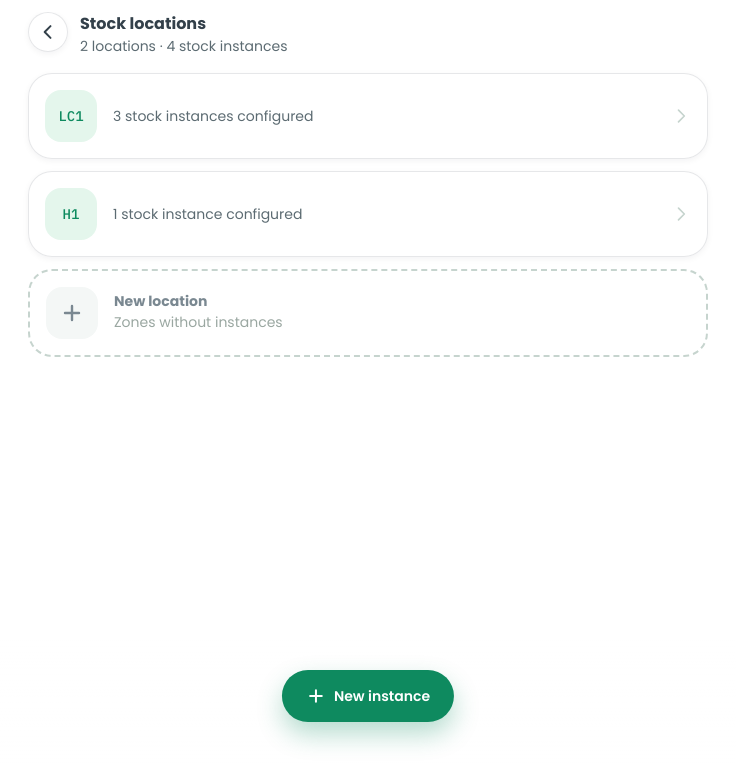
Test: StockWizardStep2View (screen 09) › C5(edit): the second card's wizard reads Save changes, patches that id and pops to the detail
Click the button with test id "stock-location-row" that starts with "LC1".
click(71, 116)  # box [28,73,708,159]
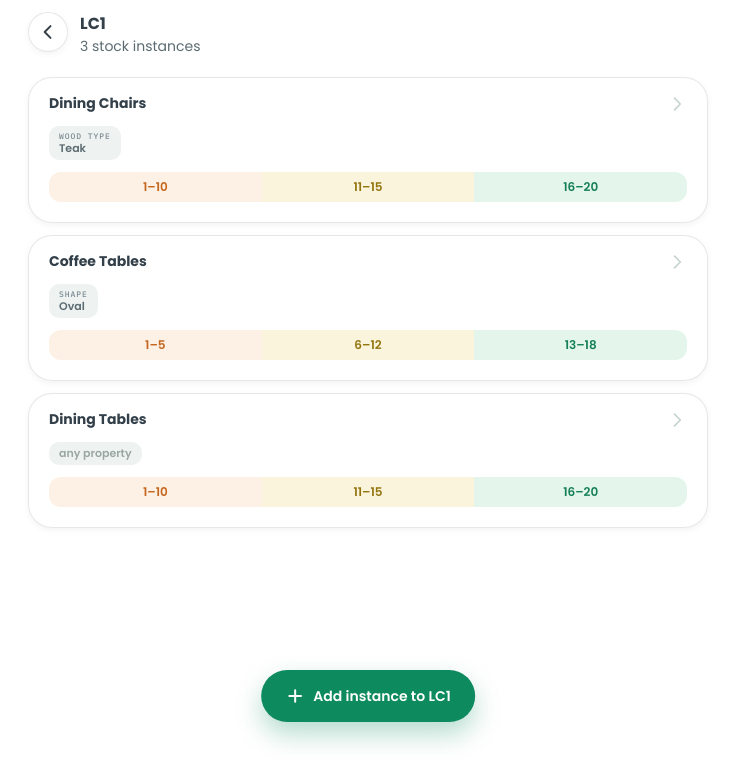
Click the button "Coffee Tables Shape Oval 1–5 6–12 13–18".
click(98, 261)  # box [29,236,707,380]
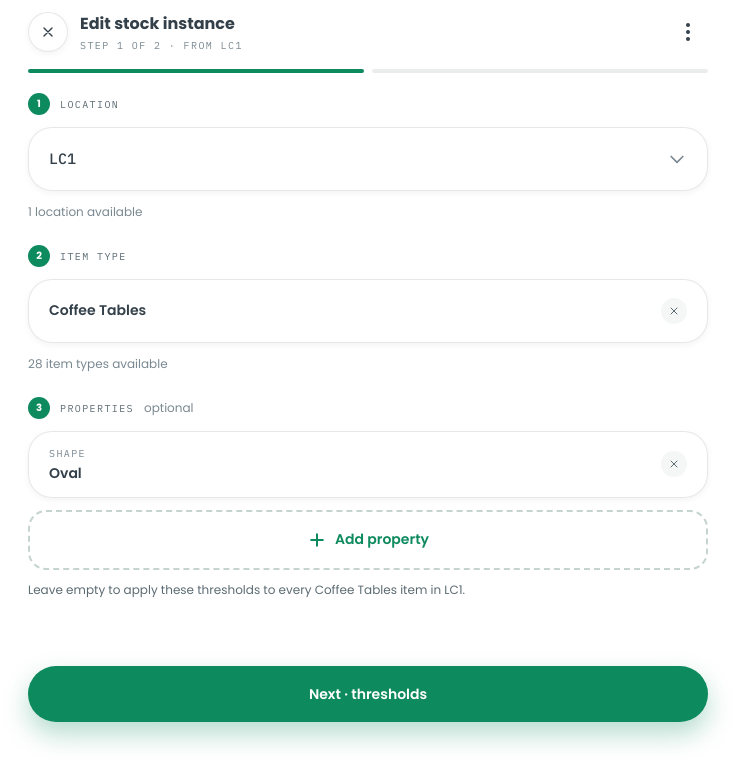
Expected: the heading "Edit stock instance" is shown, [80,14,243,34]
Click the button "Next · thresholds".
click(368, 694)  # box [28,666,708,722]
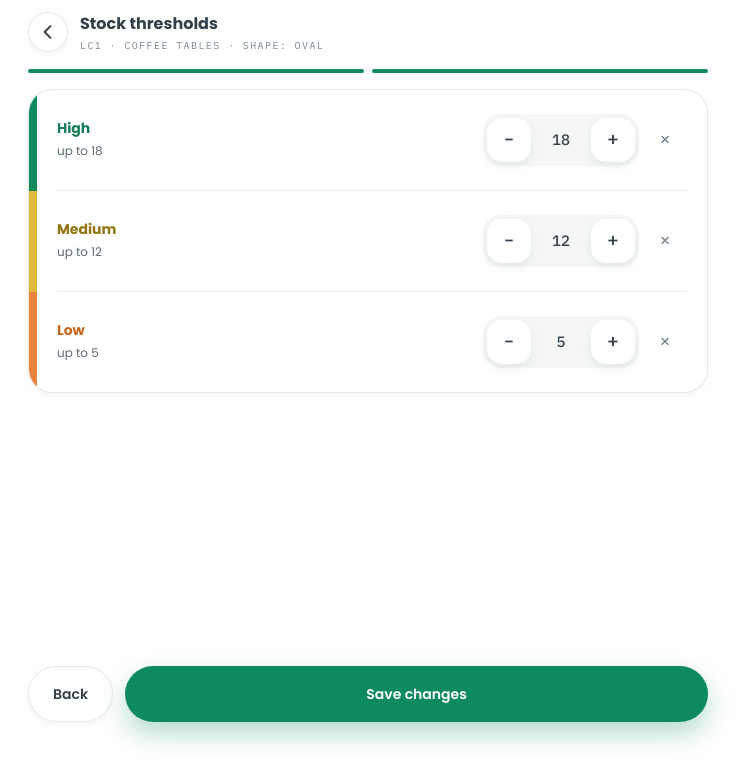
Expected: the heading "Stock thresholds" is shown, [80,12,218,35]
Click the button named "Increase low".
click(613, 342)  # box [591,320,635,364]
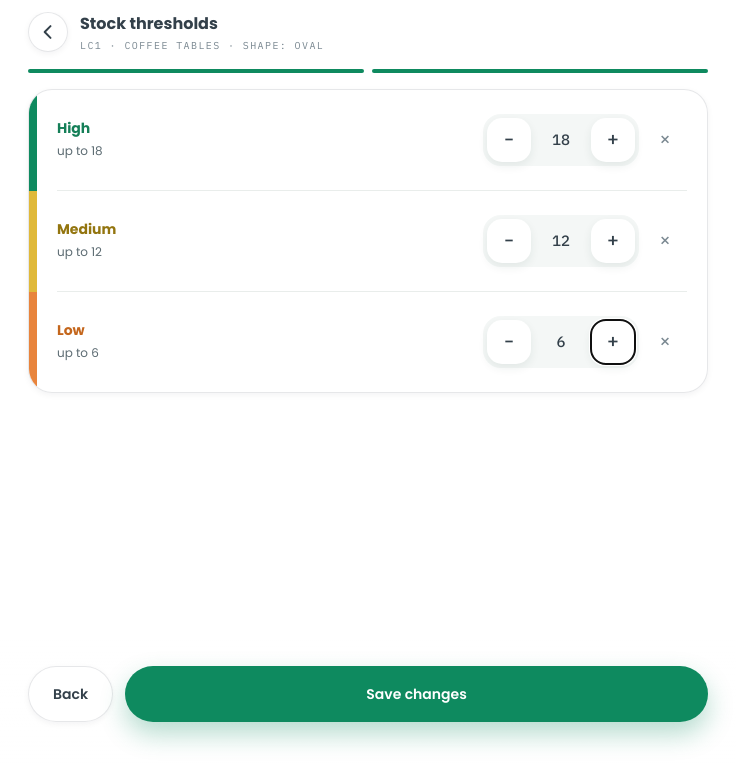
Click the button "Save changes".
click(417, 694)  # box [125,666,708,722]
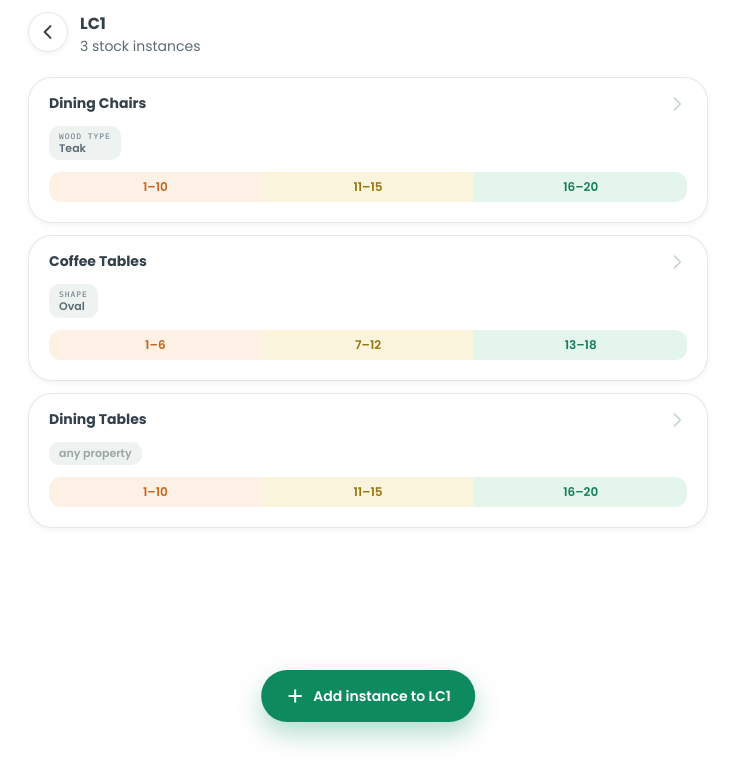
Expected: the heading "LC1" is shown, [80,12,106,35]
